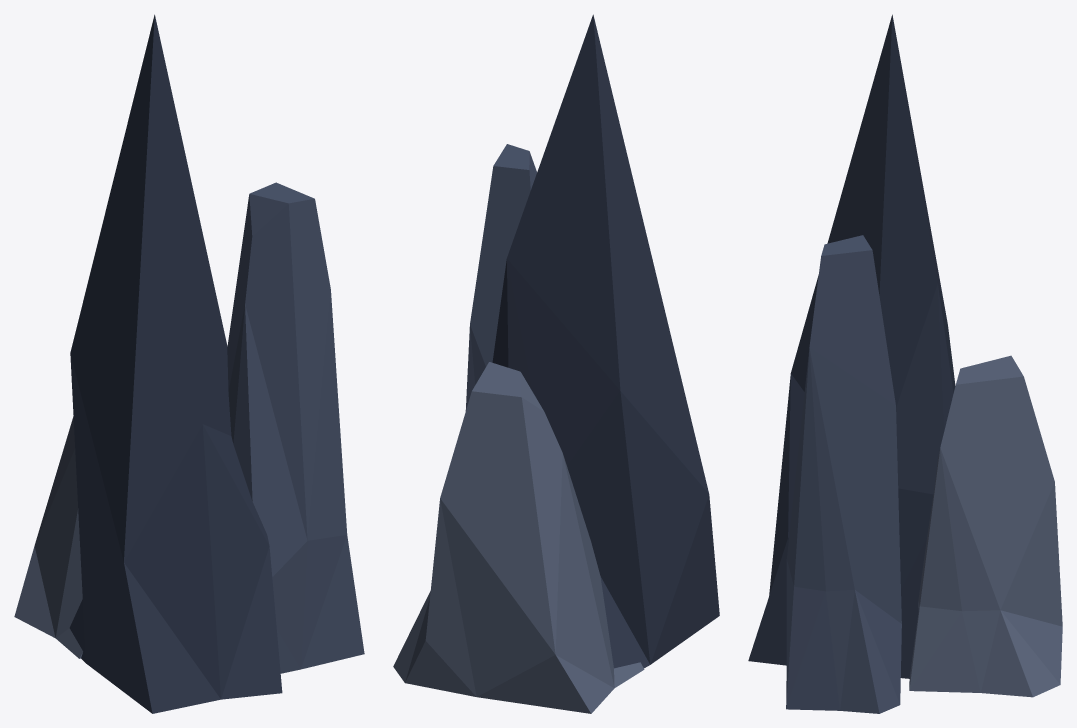
Rendered from SP_Rock09.fbx.
The picture shows the model from 3 angles, left to right: view 1: azimuth 30°, elevation 25°; view 2: azimuth 150°, elevation 25°; view 3: azimuth 270°, elevation 25°; orthographic projection. The views are drawn at different scales.
Visible parts, largest first — view 1: SP_Rock09; view 2: SP_Rock09; view 3: SP_Rock09.
Boxes of the visible parts, x1=… form: SP_Rock09: x1=14, y1=14, x2=364, y2=713; SP_Rock09: x1=393, y1=14, x2=719, y2=713; SP_Rock09: x1=748, y1=14, x2=1062, y2=713.
Bounding box in the file's own units: 43.76 × 112 × 51.21.
1 material, 1 textured.
